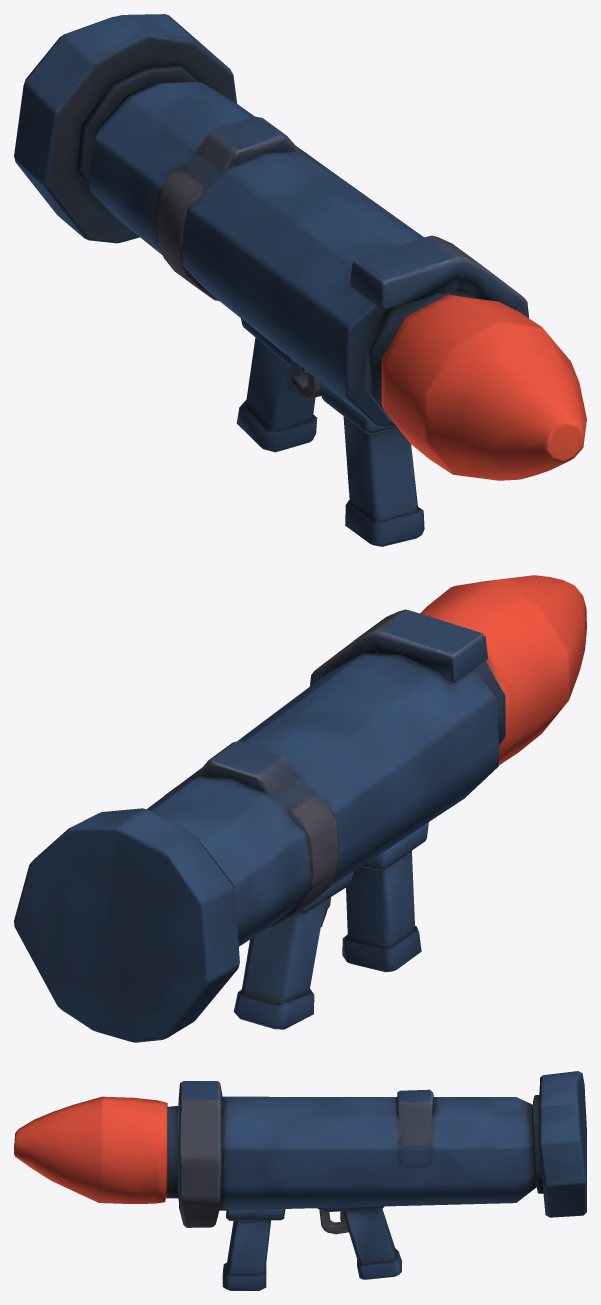
File: weapon-rocket-launcher.glb
3 views of the same model, one above another, from view 1: azimuth 30°, elevation 25°; view 2: azimuth 150°, elevation 25°; view 3: azimuth 270°, elevation 25° (orthographic). The views are drawn at different scales.
Parts seen in each view (by area): view 1: tripo_node_32b1d5cb-7957-49b2-88cb-43b7a8765439; view 2: tripo_node_32b1d5cb-7957-49b2-88cb-43b7a8765439; view 3: tripo_node_32b1d5cb-7957-49b2-88cb-43b7a8765439.
Boxes of the visible parts, <box> form: tripo_node_32b1d5cb-7957-49b2-88cb-43b7a8765439: <box>14,14,586,546</box>; tripo_node_32b1d5cb-7957-49b2-88cb-43b7a8765439: <box>14,575,586,1042</box>; tripo_node_32b1d5cb-7957-49b2-88cb-43b7a8765439: <box>14,1071,586,1290</box>.
Size of the model in its own units: 0.2858 by 0.4478 by 1.15.
1 material, 1 textured.
